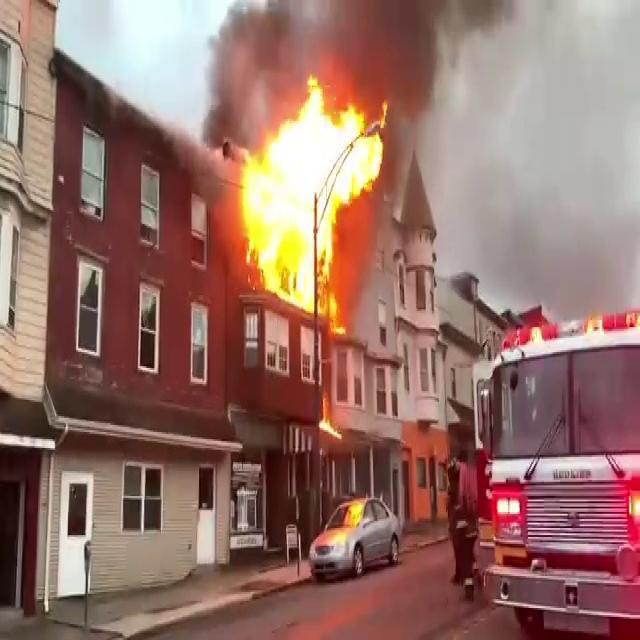Fire: (232, 69, 390, 318)
Smoke: (441, 0, 640, 343)
